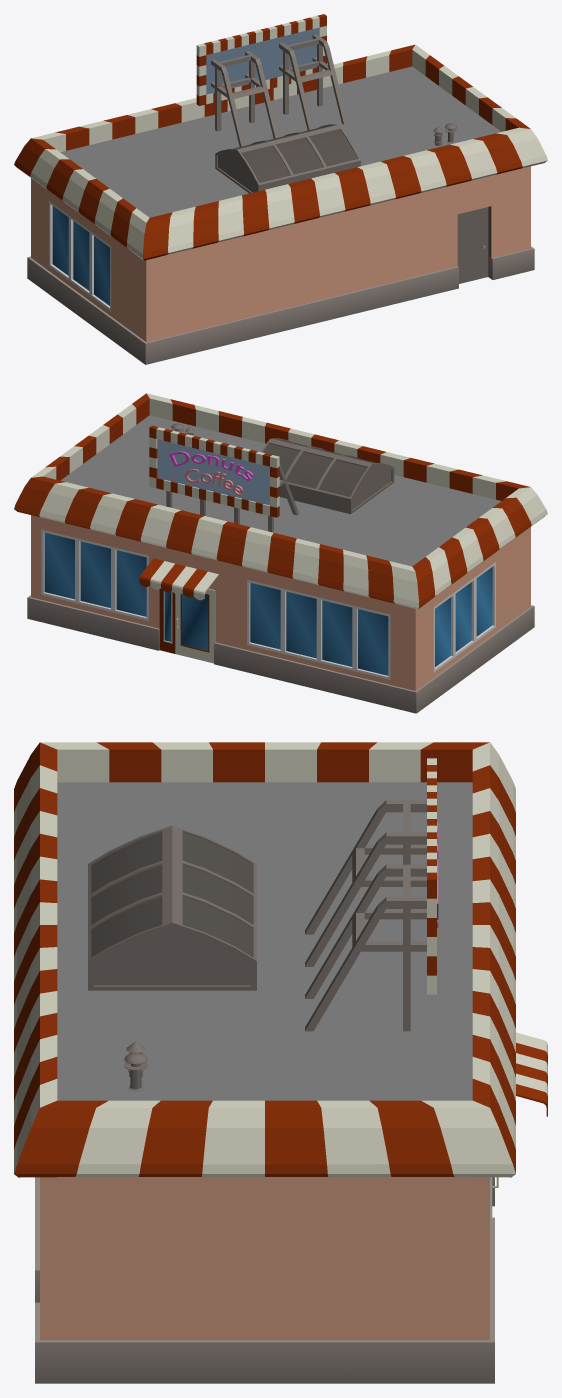
Rendered from raodcafe_1.fbx.
3 views of the same model, one above another, from view 1: azimuth 30°, elevation 25°; view 2: azimuth 150°, elevation 25°; view 3: azimuth 270°, elevation 25° (orthographic). The views are drawn at different scales.
Parts seen in each view (by area): view 1: raodcafe_1; view 2: raodcafe_1; view 3: raodcafe_1.
Boxes of the visible parts, x1,y1,x2,y2 form: raodcafe_1: (14, 14, 547, 364); raodcafe_1: (14, 393, 547, 713); raodcafe_1: (14, 742, 547, 1383).
Bounding box in the file's own units: 14.55 × 8.53 × 7.09.
